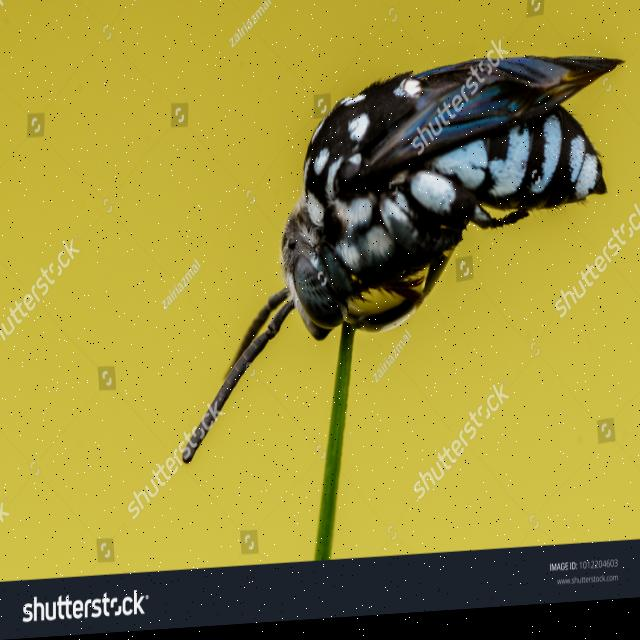Thyreus: (172, 38, 628, 489)
